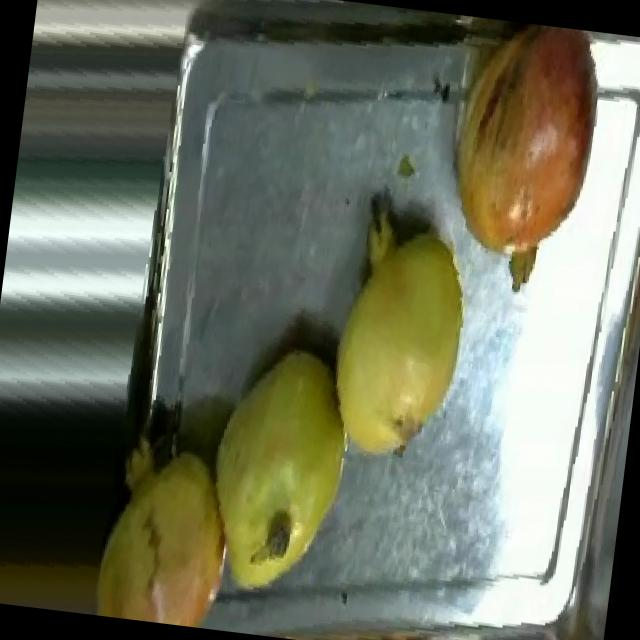fruit: (428, 14, 621, 296)
